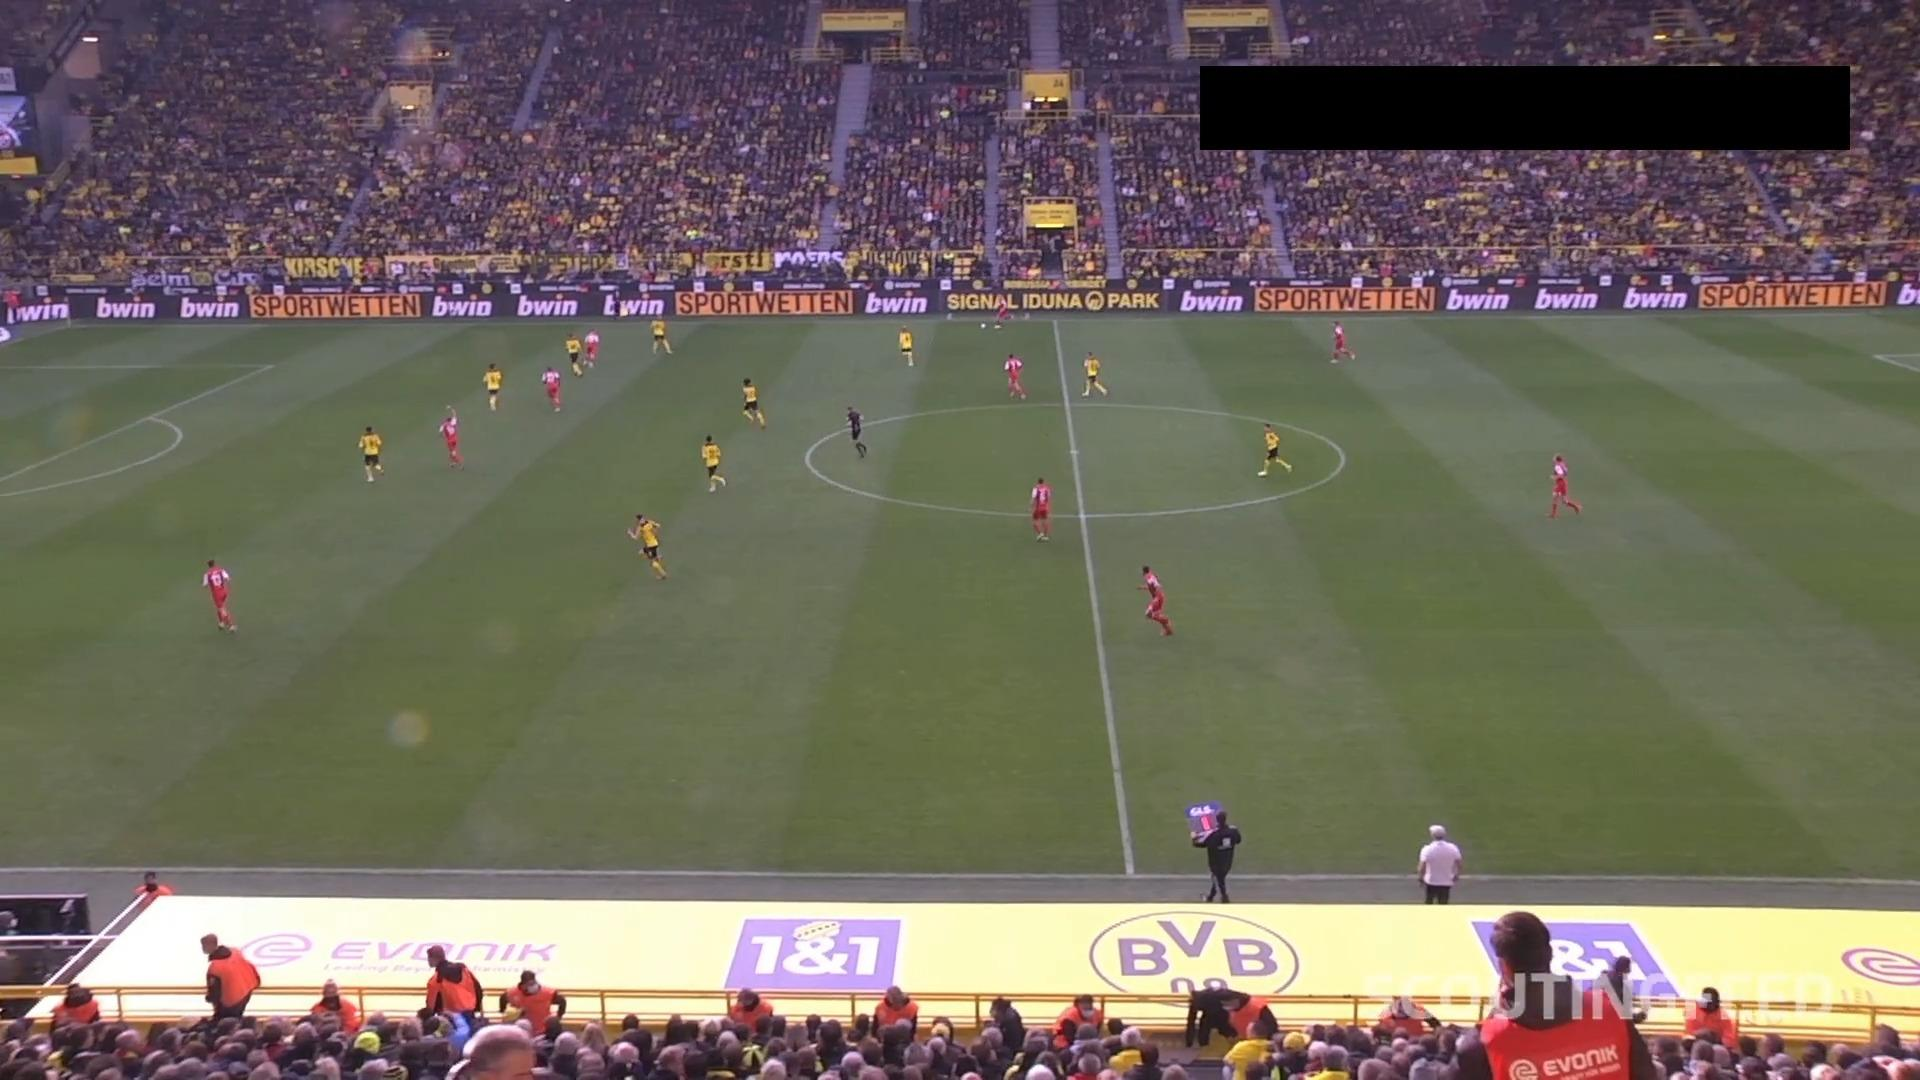ball: (979, 322, 988, 330)
coach: (199, 932, 261, 1020), (1416, 823, 1462, 903)
player: (626, 512, 667, 580), (201, 557, 237, 632), (1137, 563, 1173, 636), (1547, 452, 1581, 518), (1256, 422, 1292, 477), (437, 404, 463, 467), (357, 425, 384, 482), (700, 433, 726, 492), (1029, 476, 1052, 541), (740, 376, 766, 428), (1080, 350, 1108, 398), (1328, 320, 1355, 364), (1002, 352, 1026, 400), (482, 361, 502, 411), (540, 365, 561, 412), (564, 332, 583, 377), (649, 317, 672, 354), (897, 325, 914, 367), (583, 328, 599, 368), (993, 295, 1010, 328)
referee: (1189, 808, 1241, 903), (844, 404, 867, 457), (612, 292, 630, 322)
